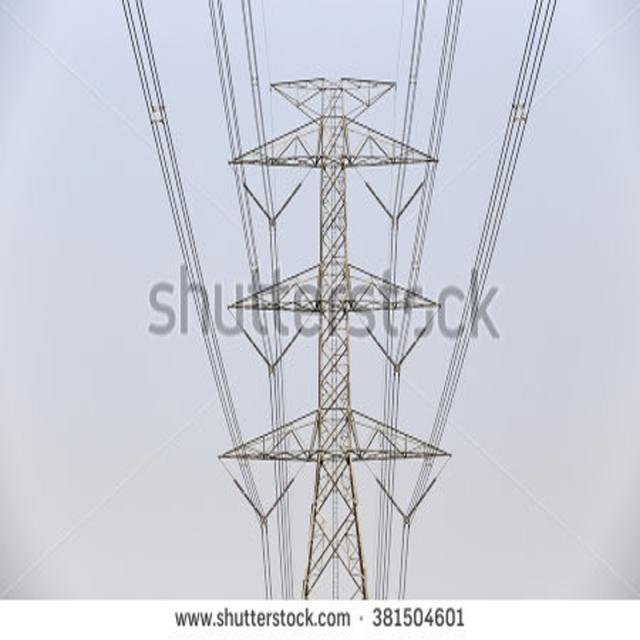non-critical vegetation: (228, 75, 434, 603)
